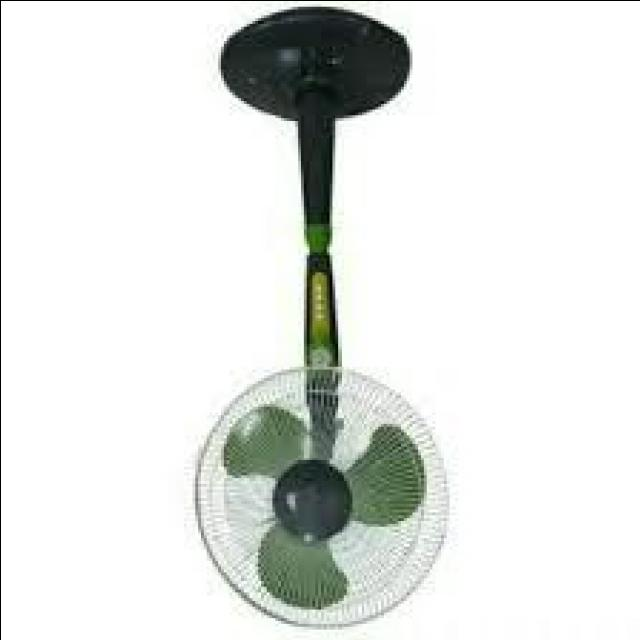fan: (202, 4, 450, 628)
